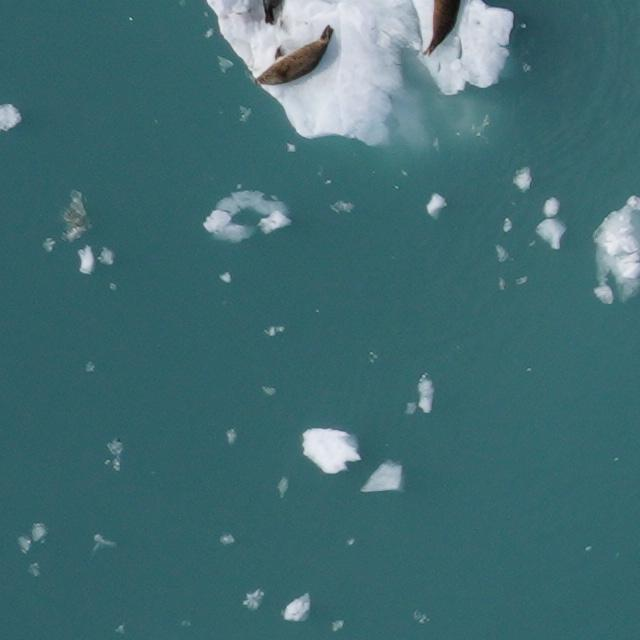seal: (248, 20, 348, 97)
